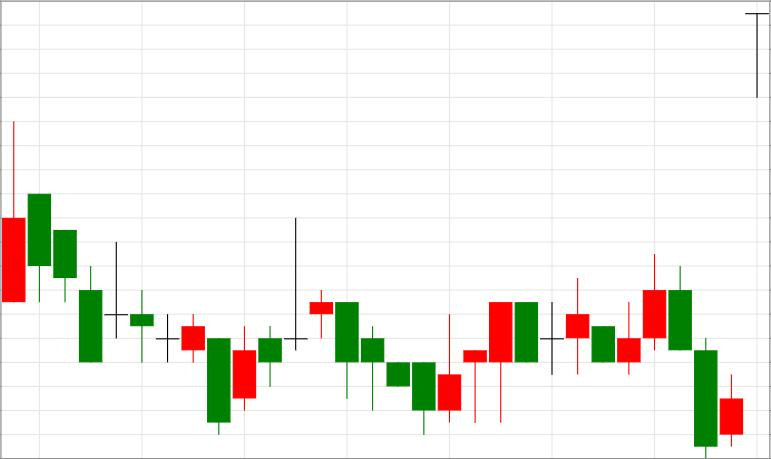inverse_hammer_rise: (310, 291, 461, 436)
